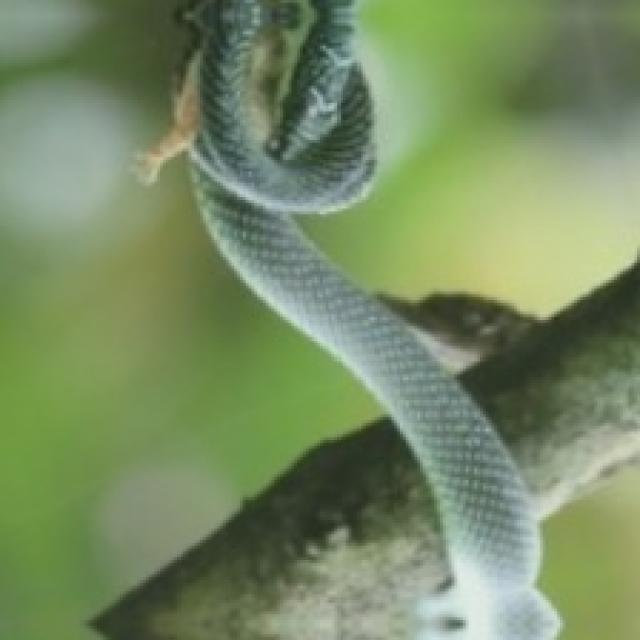paradise tree snake: (189, 0, 557, 637)
